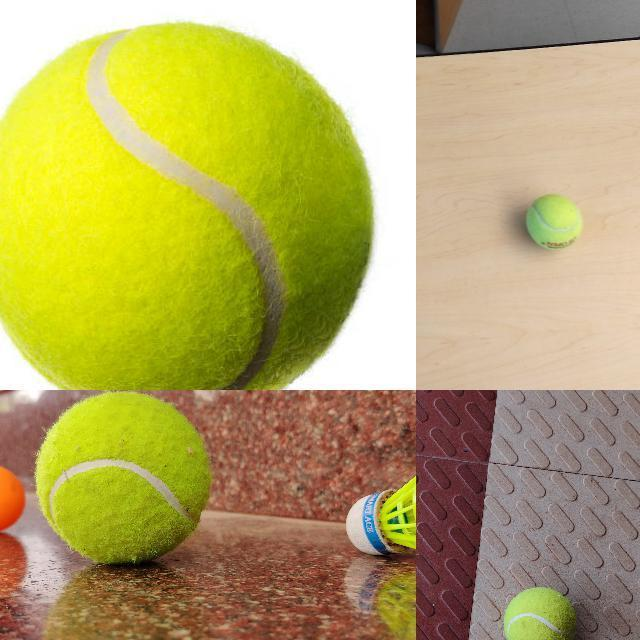tennis-ball: (0, 20, 374, 389), (36, 392, 213, 567), (503, 586, 577, 639), (524, 193, 582, 249)
